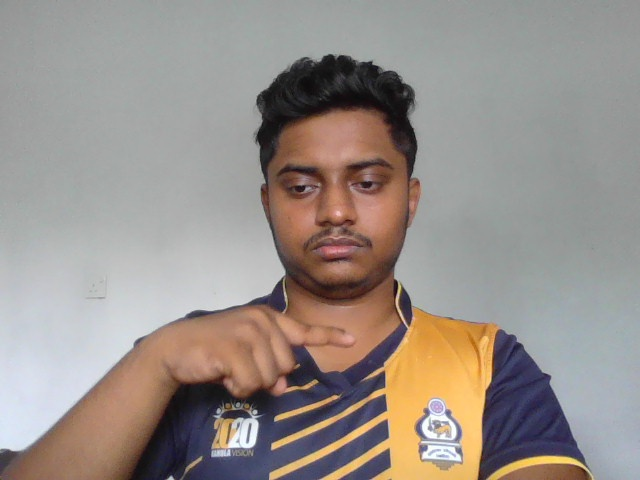Going To: (143, 299, 358, 403)
